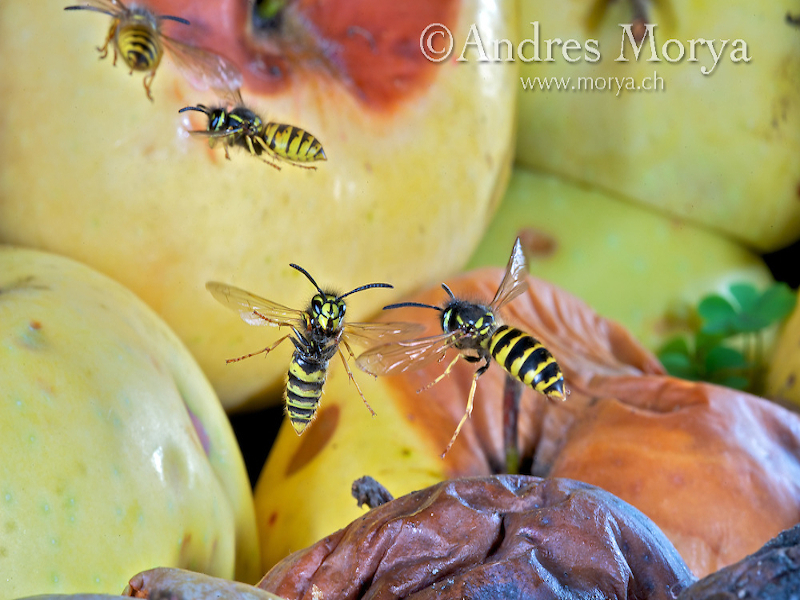chax: (373, 245, 601, 466), (196, 242, 410, 417), (167, 70, 364, 203), (58, 1, 216, 123)
